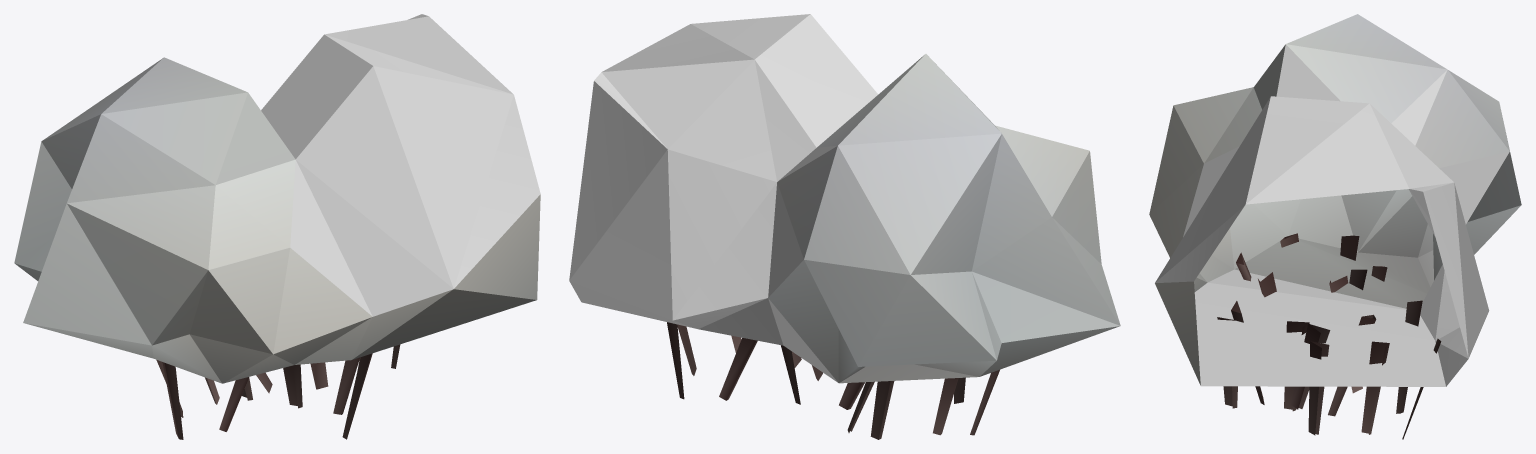
The model's file is sm_bush_corner.fbx.
The picture shows the model from 3 angles, left to right: view 1: azimuth 30°, elevation 25°; view 2: azimuth 150°, elevation 25°; view 3: azimuth 270°, elevation 25°; orthographic projection. The views are drawn at different scales.
Visible parts, largest first — view 1: sm_bush_corner; view 2: sm_bush_corner; view 3: sm_bush_corner.
Boxes of the visible parts, left/top/right/bottom form: sm_bush_corner: left=14, top=14, right=540, bottom=439; sm_bush_corner: left=569, top=14, right=1120, bottom=439; sm_bush_corner: left=1149, top=14, right=1521, bottom=439.
Size of the model in its own units: 143 by 194 by 144.
